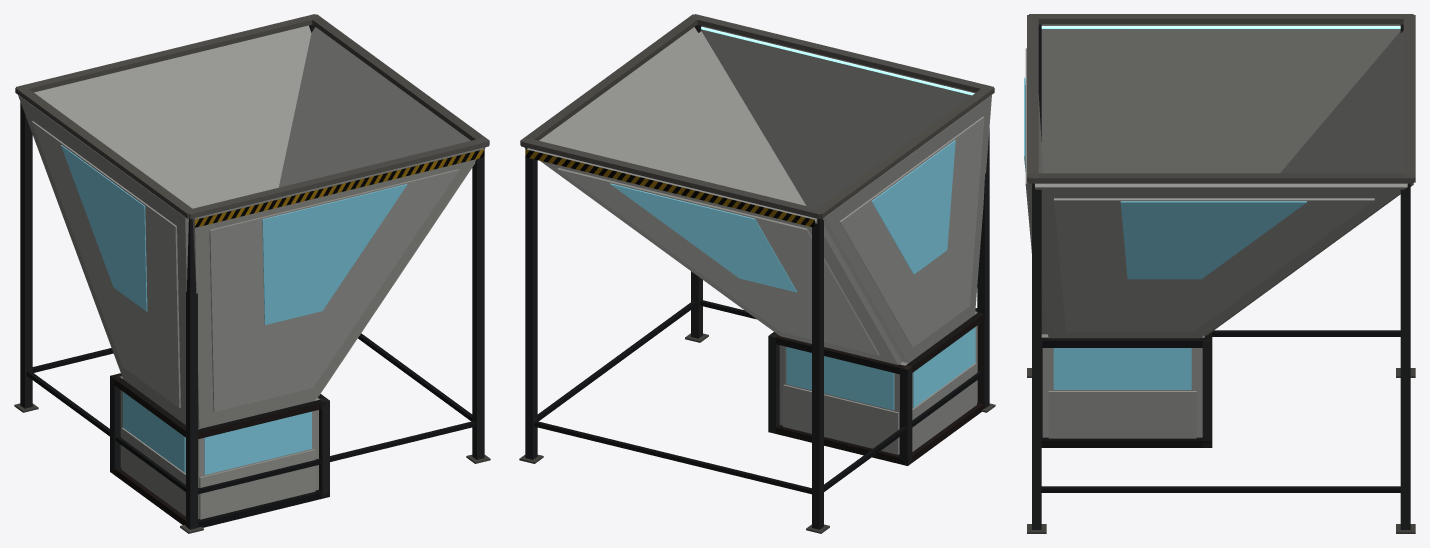
Rendered from chute_adv_hopper_2x2.glb.
The picture shows the model from 3 angles, left to right: view 1: azimuth 30°, elevation 25°; view 2: azimuth 150°, elevation 25°; view 3: azimuth 270°, elevation 25°; orthographic projection. The views are drawn at different scales.
Visible parts, largest first — view 1: Frame; view 2: Frame, Power; view 3: Frame, Power.
Part boxes in pixels (x1,y1,x2,y2): Frame: (14, 14, 490, 533); Frame: (519, 14, 995, 533); Power: (701, 26, 974, 95); Frame: (1024, 14, 1415, 533); Power: (1041, 26, 1400, 28).
Size of the model in its own units: 3.97 by 3.98 by 3.97.
